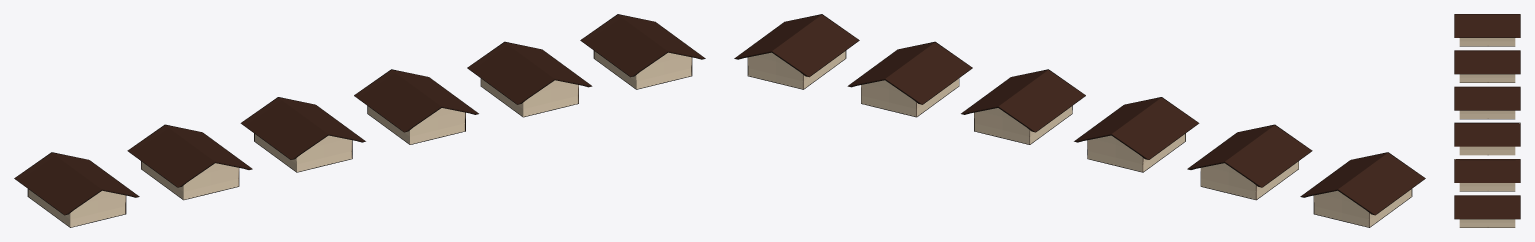
File: HousesV1.fbx
The picture shows the model from 3 angles, left to right: view 1: azimuth 30°, elevation 25°; view 2: azimuth 150°, elevation 25°; view 3: azimuth 270°, elevation 25°; orthographic projection. The views are drawn at different scales.
Parts seen in each view (by area): view 1: House base; view 2: House base; view 3: House base.
Boxes of the visible parts, x1,y1,x2,y2 form: House base: [14, 14, 705, 227]; House base: [734, 14, 1425, 227]; House base: [1454, 14, 1520, 227].
Size of the model in its own units: 11496 by 599 by 1565.
Materials: 2 (1 with a texture image).
